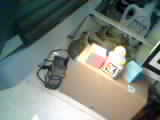duck: (100, 37, 127, 68)
